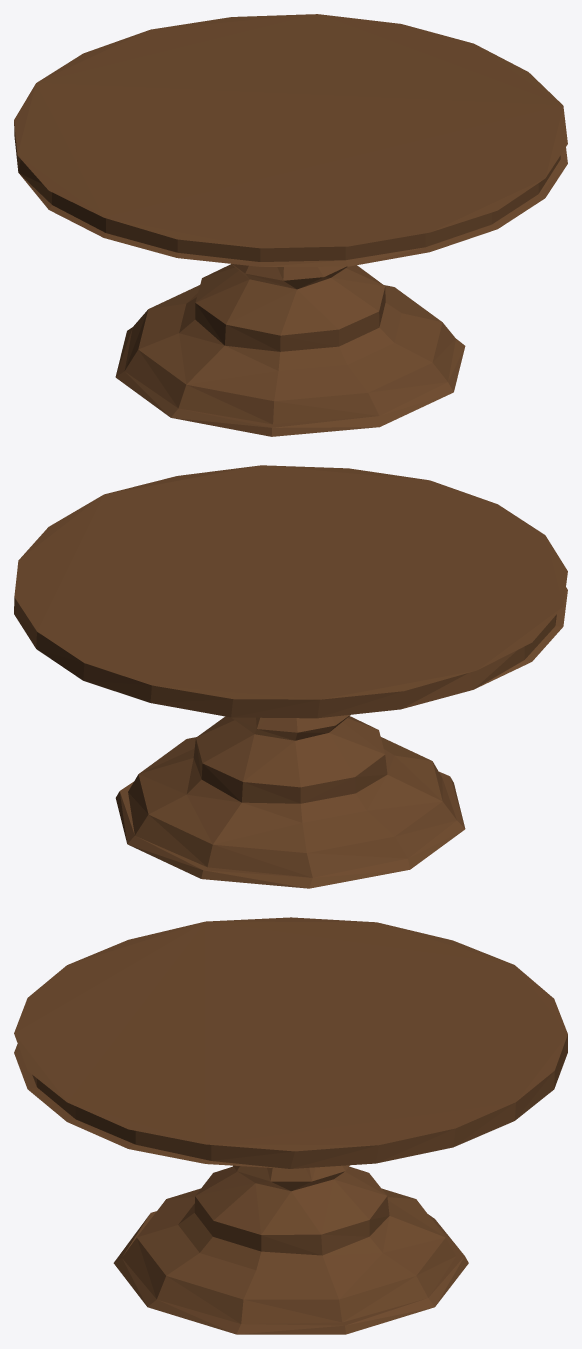
The model's file is cafe_coffee_table.fbx.
The picture shows the model from 3 angles, top to bottom: view 1: azimuth 30°, elevation 25°; view 2: azimuth 150°, elevation 25°; view 3: azimuth 270°, elevation 25°; orthographic projection.
Parts seen in each view (by area): view 1: cafe_coffee_table_LOD0; view 2: cafe_coffee_table_LOD0; view 3: cafe_coffee_table_LOD0.
Part boxes in pixels (<box>): cafe_coffee_table_LOD0: <box>14,14,567,436</box>; cafe_coffee_table_LOD0: <box>14,465,567,888</box>; cafe_coffee_table_LOD0: <box>14,917,567,1334</box>.
Size of what is drawn, in the model's own units: 0.9971 by 0.4581 by 0.9991.
1 material, 1 textured.
